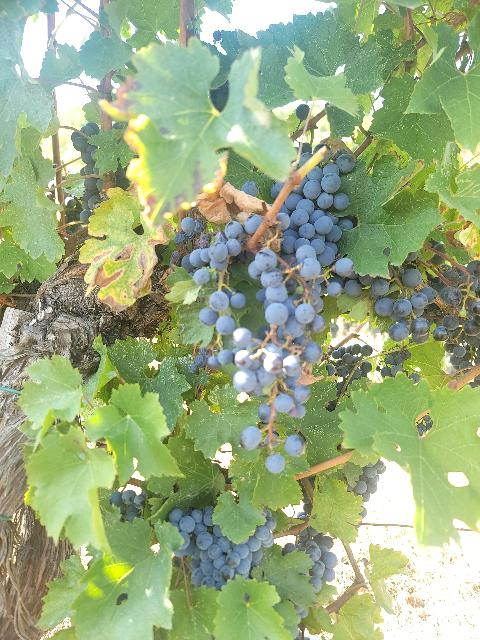grapes: (200, 249, 325, 422), (169, 506, 276, 590), (278, 151, 355, 266), (430, 252, 480, 371)
